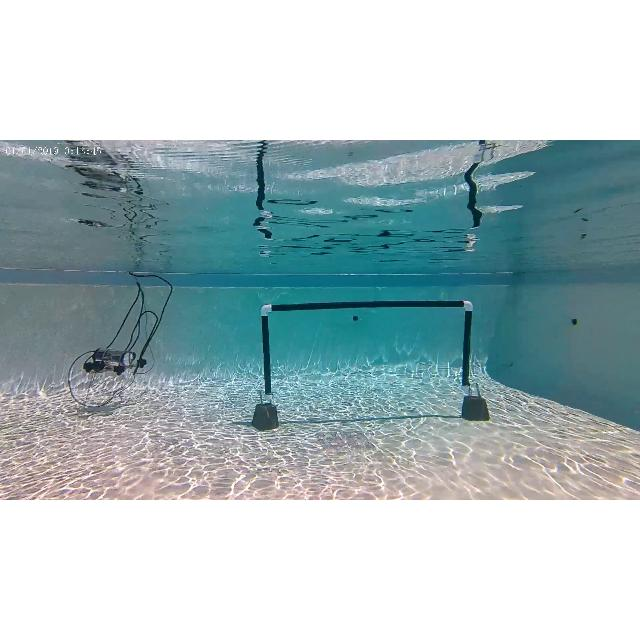prequal gate: (261, 299, 474, 401)
prequal gate leg l: (250, 303, 284, 429)
prequal gate leg r: (456, 298, 492, 424)
